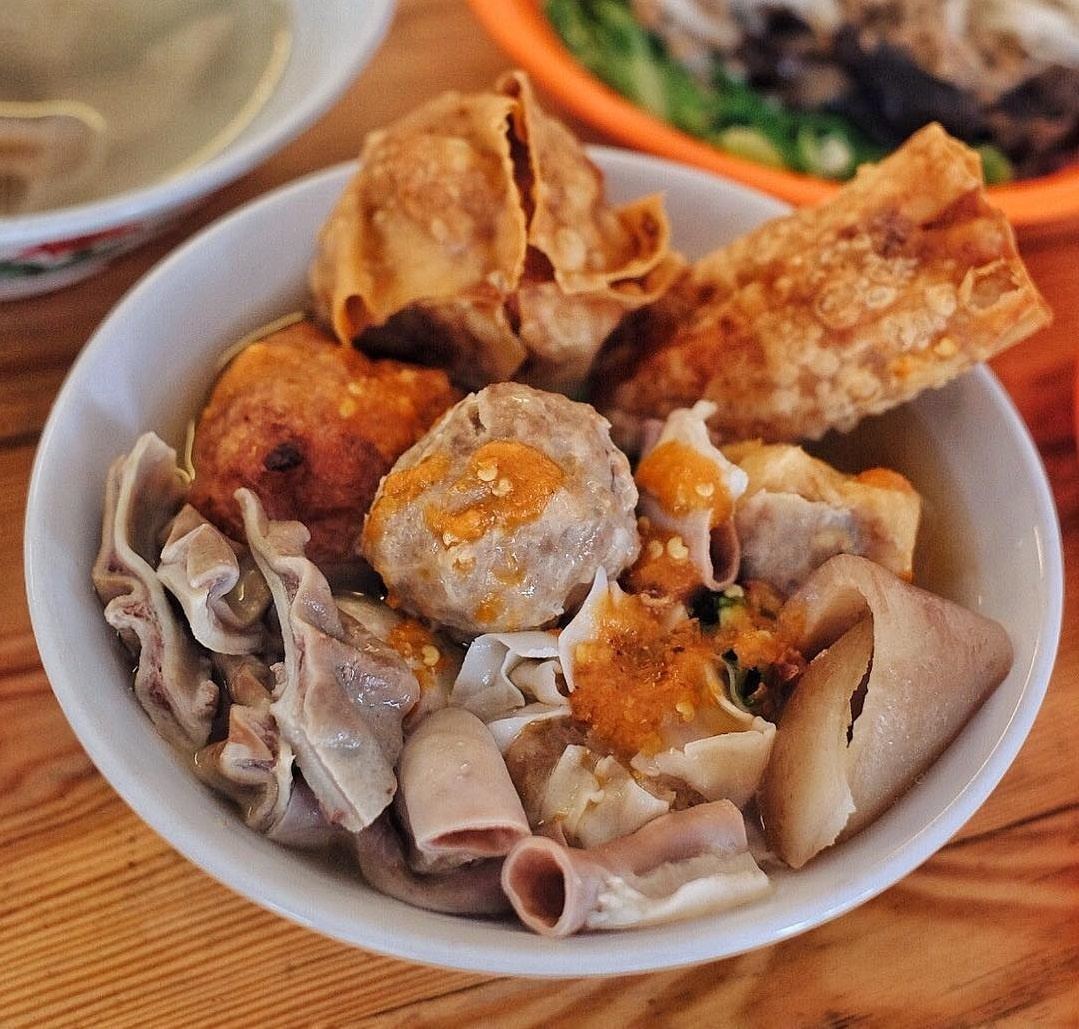bakso_malang: (86, 73, 1050, 937)
